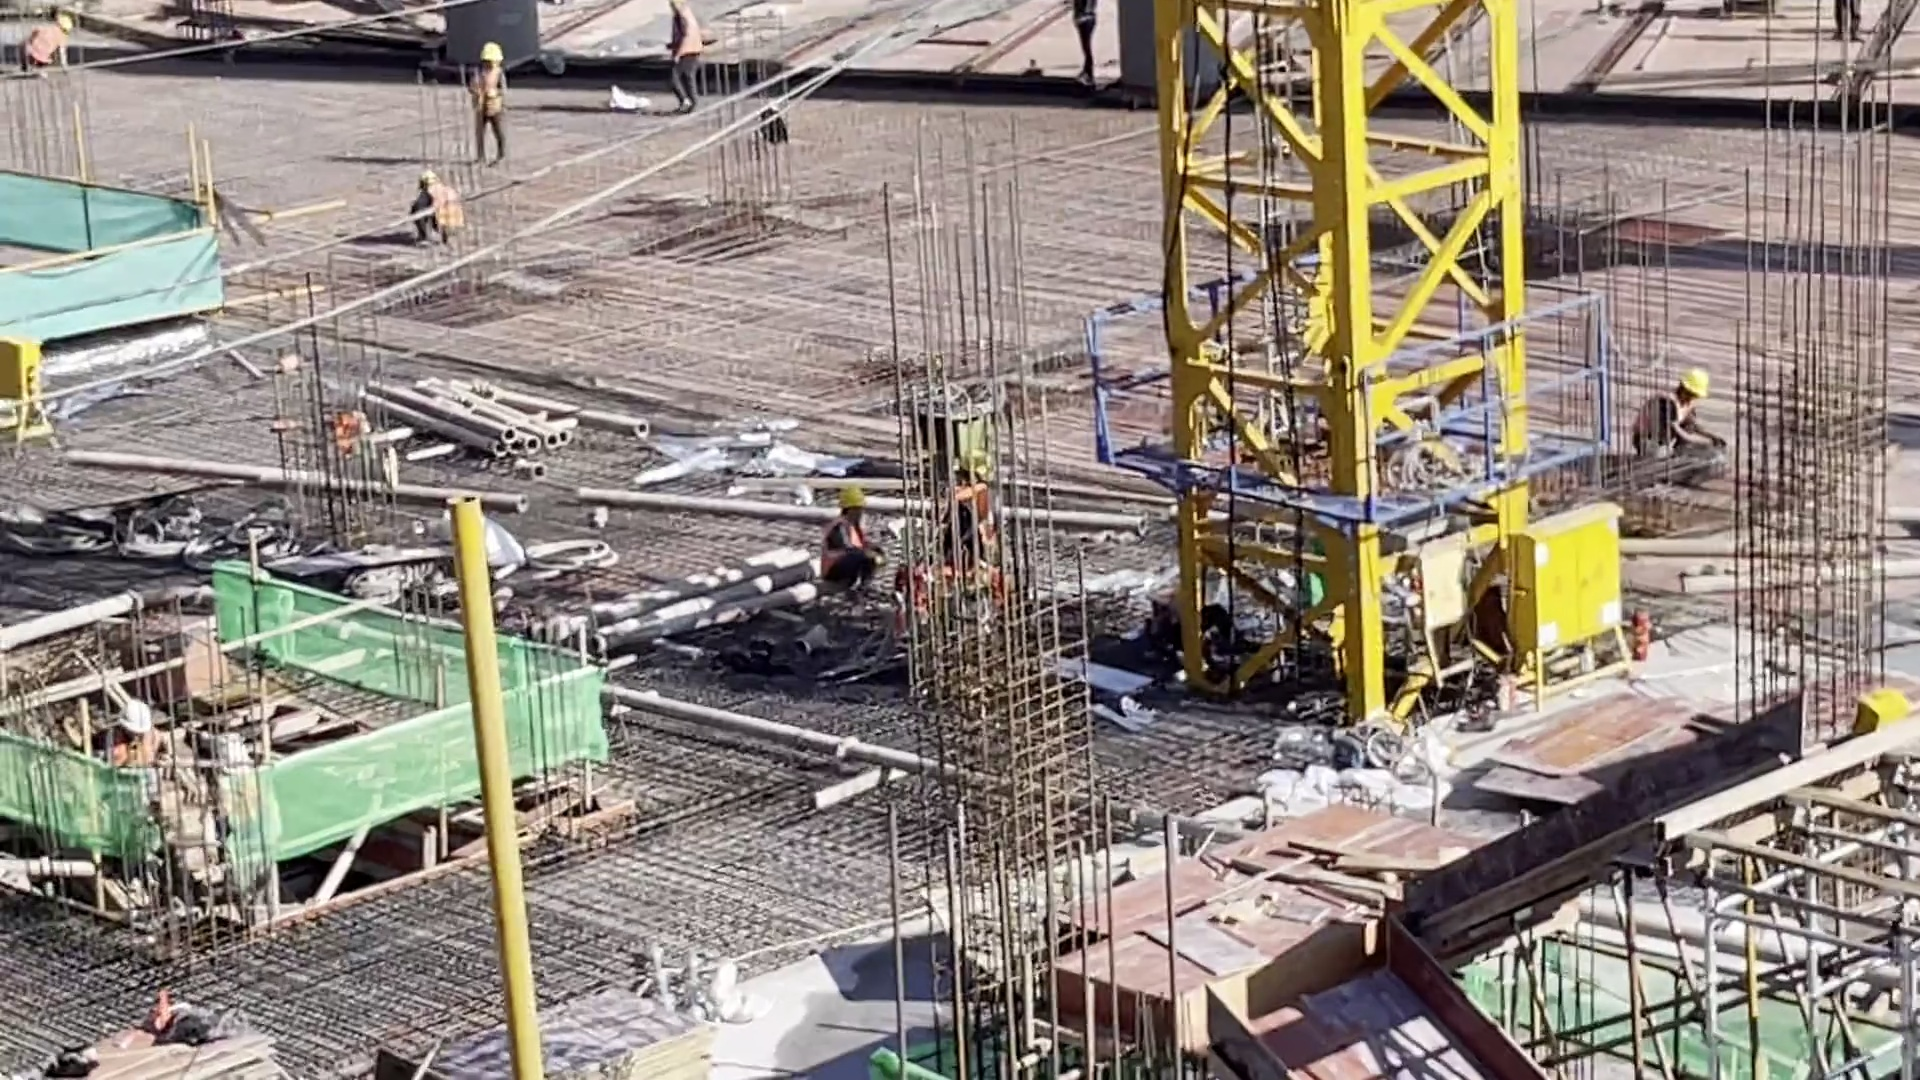board: (388, 997, 715, 1080)
ebox: (1506, 497, 1638, 702), (1414, 544, 1480, 694), (1, 335, 64, 460), (1849, 684, 1910, 744)
helmet: (119, 700, 151, 734), (831, 489, 867, 515), (1682, 366, 1709, 397), (478, 42, 506, 61), (53, 11, 70, 34)
person: (816, 488, 889, 598), (1634, 371, 1712, 457), (469, 36, 515, 162), (666, 1, 703, 120), (106, 703, 171, 769), (410, 171, 465, 243), (14, 13, 78, 75), (1070, 1, 1101, 88)
vest: (1635, 392, 1692, 455), (822, 517, 862, 583), (428, 180, 464, 236), (671, 8, 703, 61), (474, 66, 502, 120), (28, 22, 67, 62)
